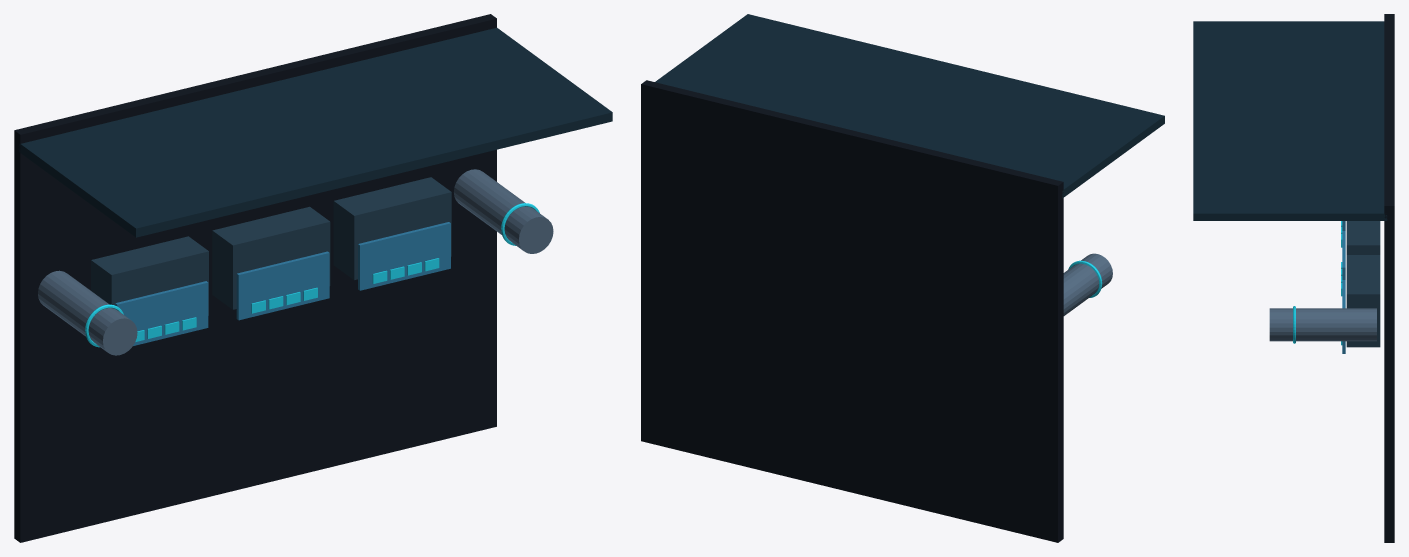
The model's file is 02_Orbital_Command_Deck.obj.
The picture shows the model from 3 angles, left to right: view 1: azimuth 30°, elevation 25°; view 2: azimuth 150°, elevation 25°; view 3: azimuth 270°, elevation 25°; orthographic projection. The views are drawn at different scales.
Visible parts, largest first — view 1: Control_Floor, Main_Backdrop, Consoles_1, Consoles_2, Consoles_0, DataTower_1, DataTower_0, InputDeck_1, InputDeck_2, InputDeck_0; view 2: Control_Floor, Main_Backdrop, DataTower_0; view 3: Main_Backdrop, Control_Floor, DataTower_1, Consoles_2, Consoles_1.
Part boxes in pixels (bbox=[...]): Control_Floor: bbox=[14, 14, 496, 542]; Main_Backdrop: bbox=[19, 27, 612, 237]; Consoles_1: bbox=[212, 206, 330, 309]; Consoles_2: bbox=[333, 177, 451, 280]; Consoles_0: bbox=[91, 236, 208, 315]; DataTower_1: bbox=[454, 169, 553, 253]; DataTower_0: bbox=[38, 270, 137, 355]; InputDeck_1: bbox=[236, 251, 329, 320]; InputDeck_2: bbox=[358, 222, 450, 290]; InputDeck_0: bbox=[115, 281, 208, 345]; Control_Floor: bbox=[641, 80, 1063, 542]; Main_Backdrop: bbox=[655, 14, 1164, 198]; DataTower_0: bbox=[1063, 253, 1112, 315]; Main_Backdrop: bbox=[1193, 21, 1387, 220]; Control_Floor: bbox=[1384, 14, 1394, 542]; DataTower_1: bbox=[1269, 308, 1376, 341]; Consoles_2: bbox=[1346, 255, 1380, 347]; Consoles_1: bbox=[1346, 221, 1380, 254].
Size of the model in its own units: 11 by 9 by 4.88.
